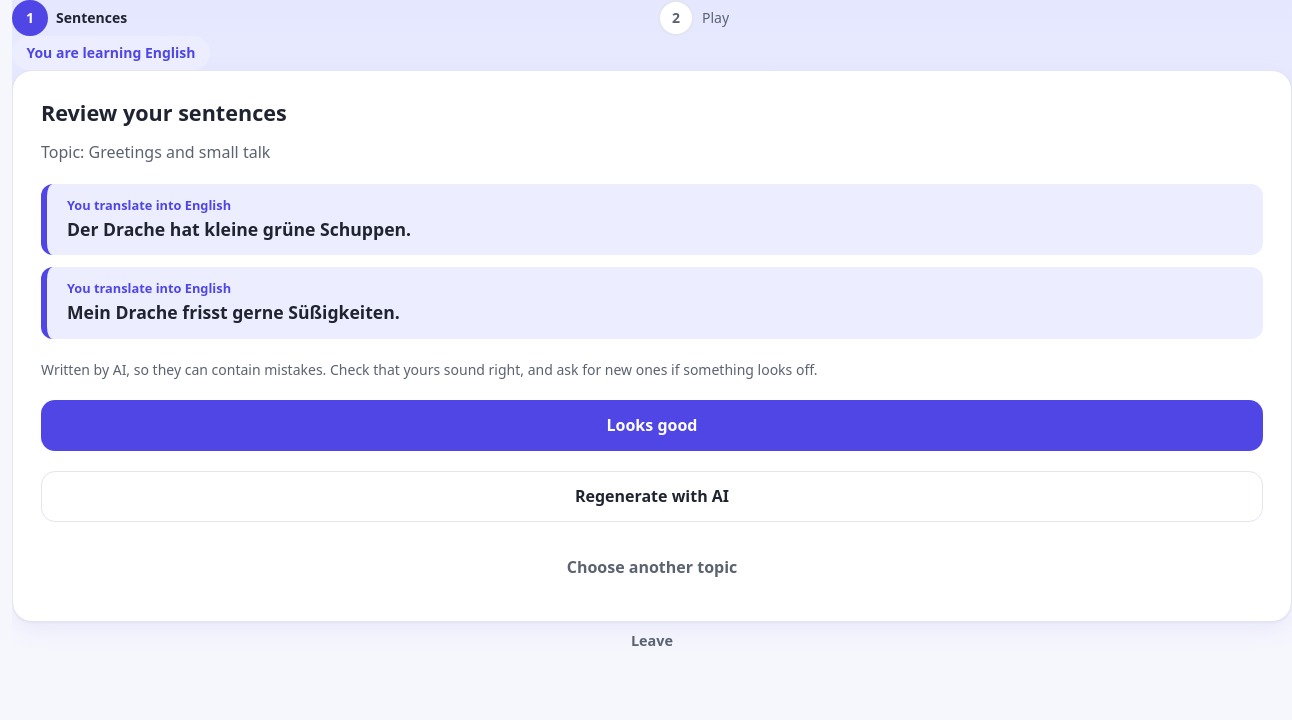
Test case: SoloGame › offers new sentences for the same topic after a round, and reviews them again
Click the button "Looks good". click: (652, 426)
box: [41,400,1263,451]
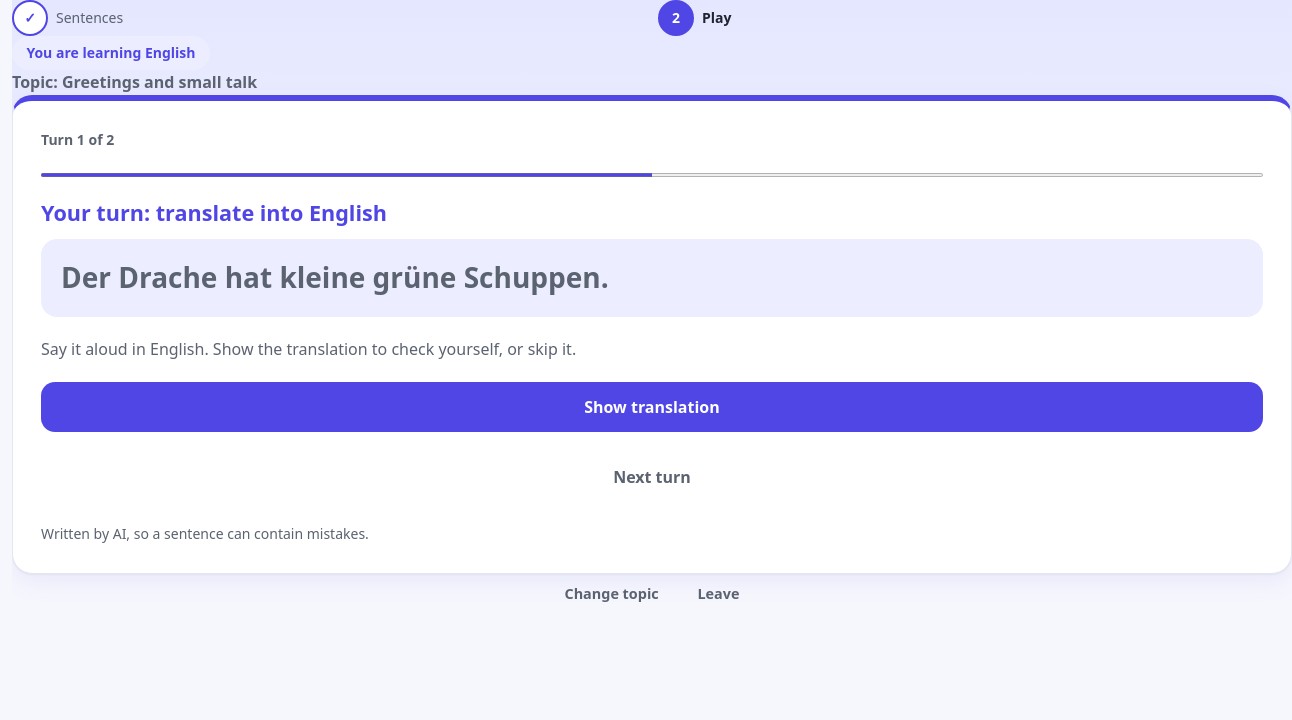
Click the button "Next turn". click: (652, 478)
box: [41,452,1263,503]
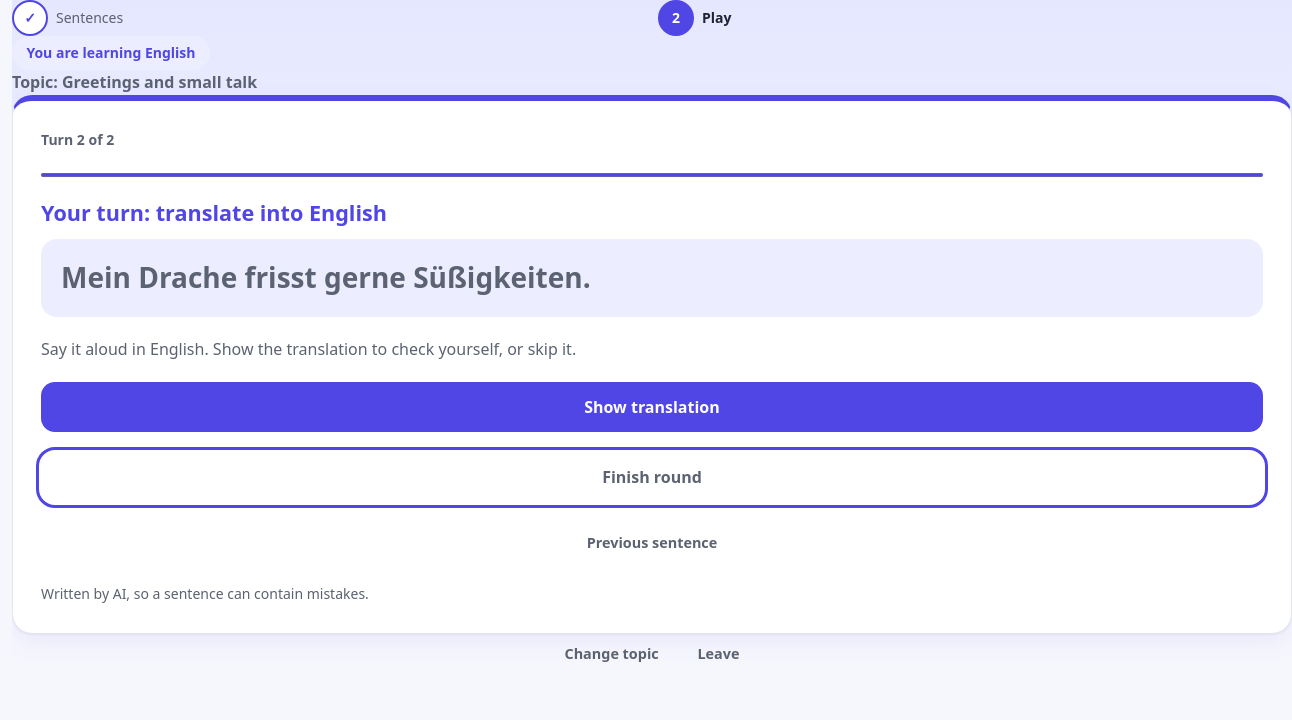
Click the button "Finish round". click: (652, 478)
box: [41,452,1263,503]
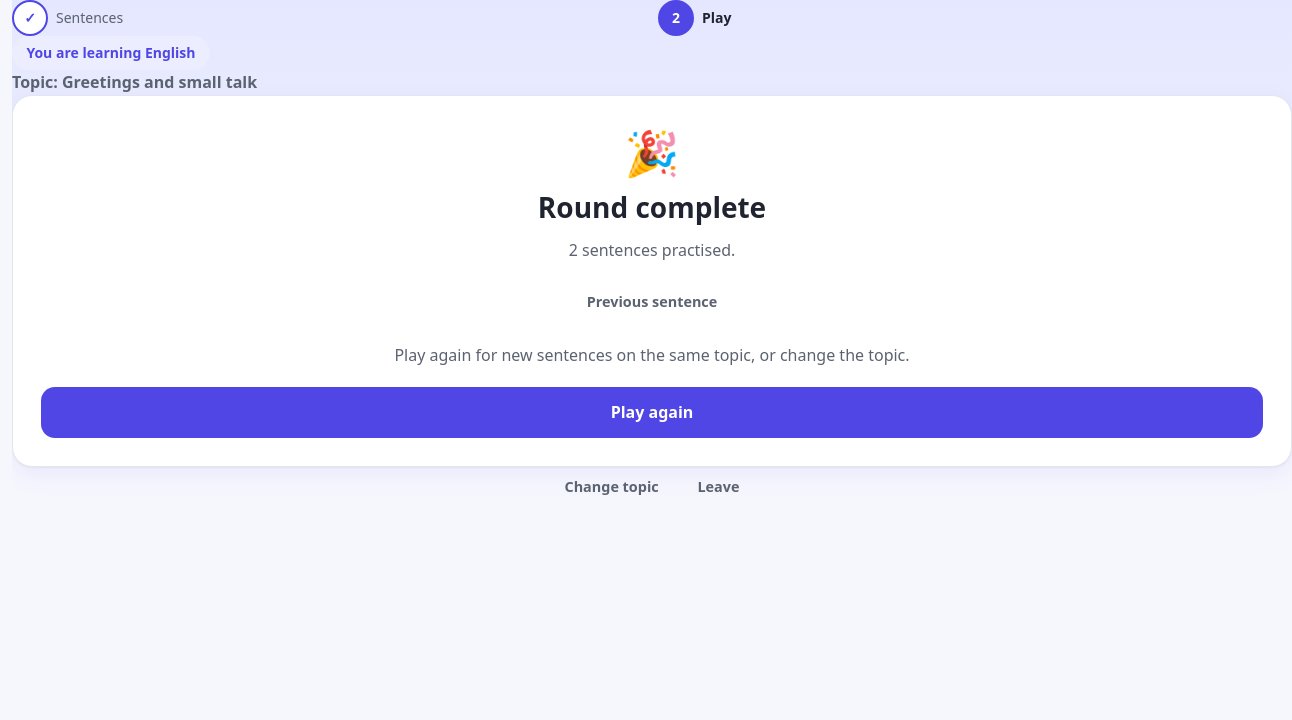
Click the button "Play again". click: (652, 413)
box: [41,387,1263,438]
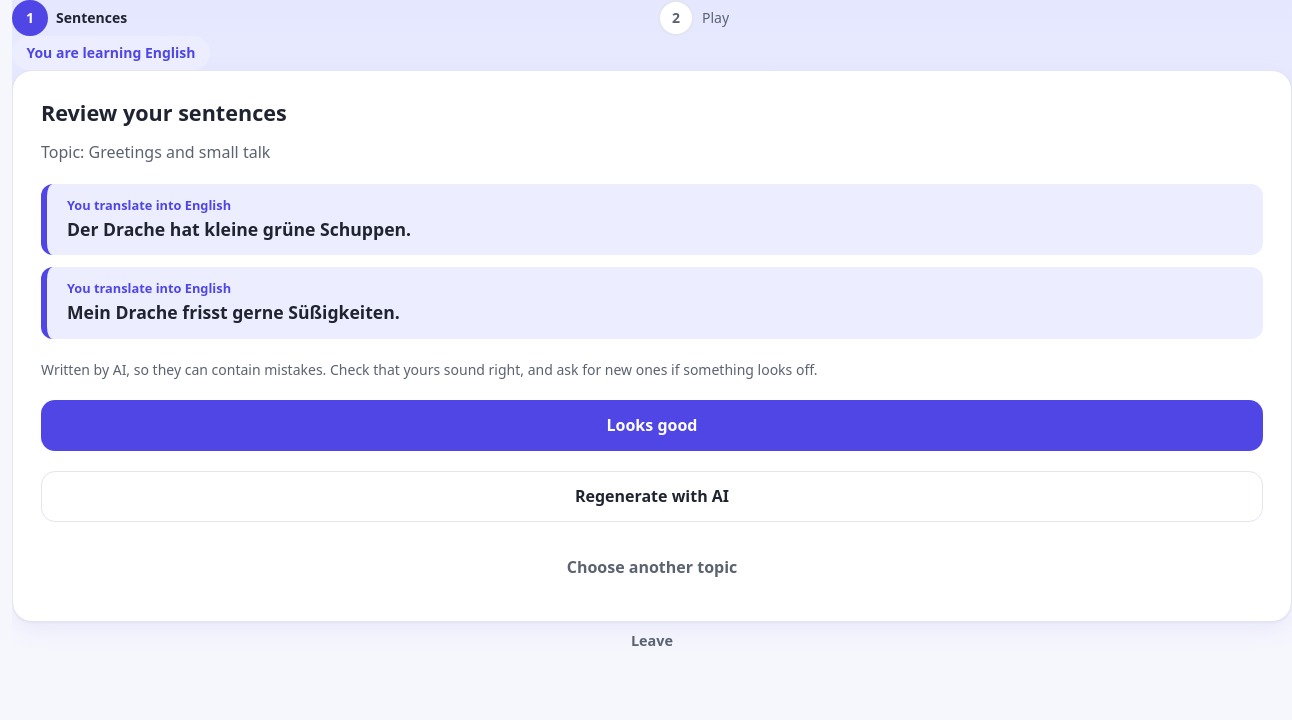
Now the heading "Review your sentences" is shown, box [41,98,287,128]
